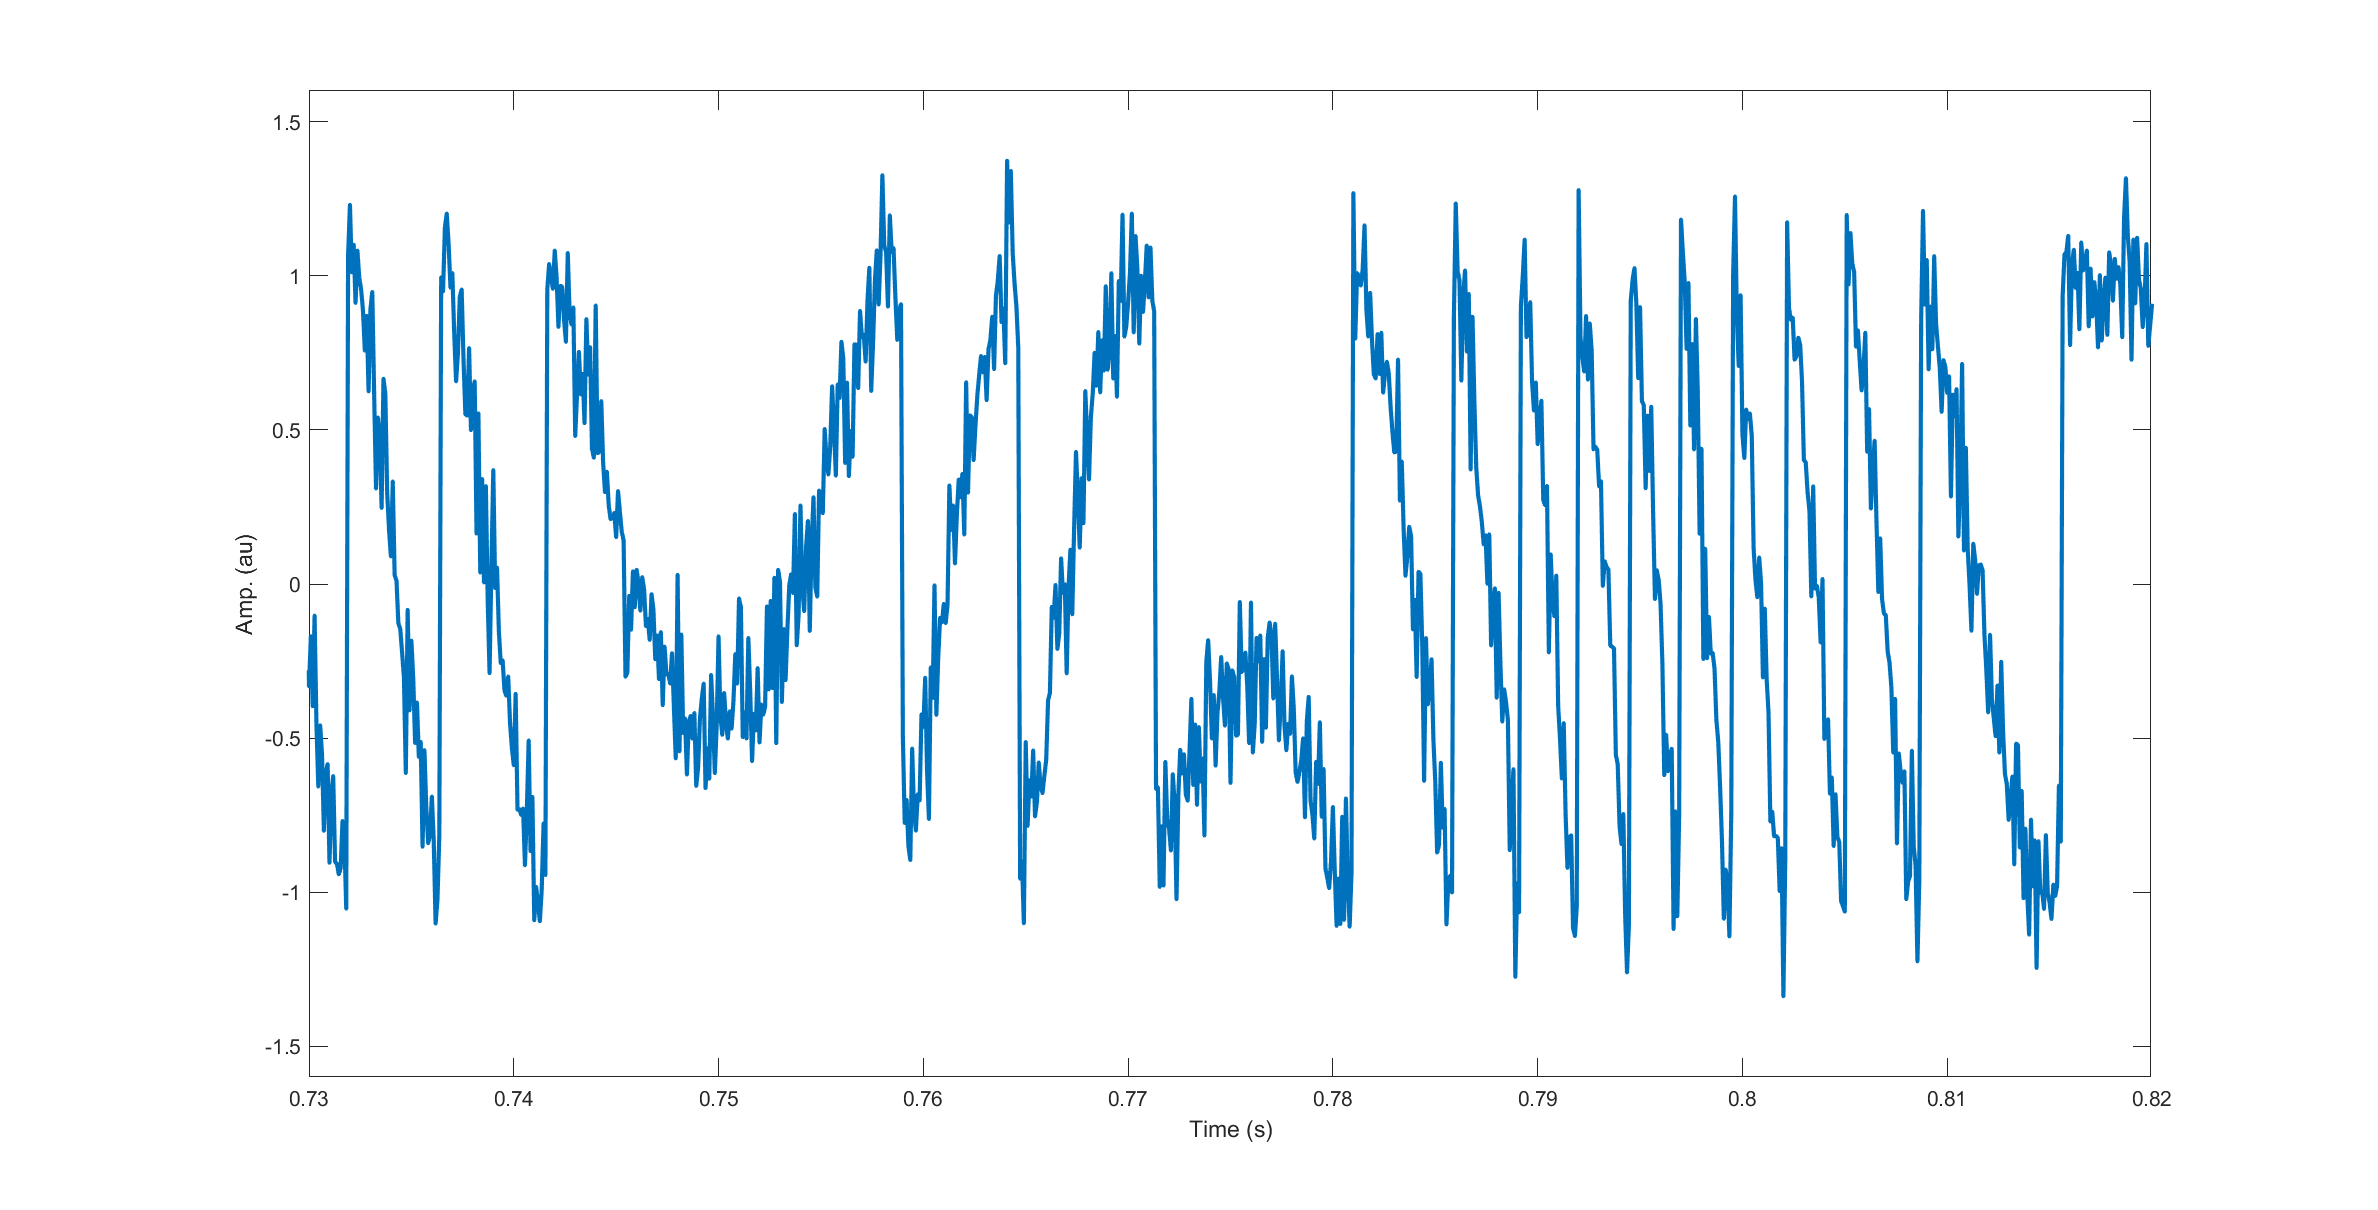negative_fringe: (1906, 196, 2028, 963), (1333, 171, 1434, 898), (531, 235, 634, 934), (426, 208, 525, 903), (338, 198, 414, 898), (1833, 208, 1907, 900), (1437, 188, 1503, 900), (1773, 215, 1830, 995), (1506, 239, 1563, 977), (1719, 191, 1775, 898), (1619, 252, 1668, 969), (1673, 211, 1719, 900), (1566, 187, 1610, 903)
positive_fringe: (1042, 193, 1173, 894), (921, 147, 1028, 877), (804, 165, 914, 870)
